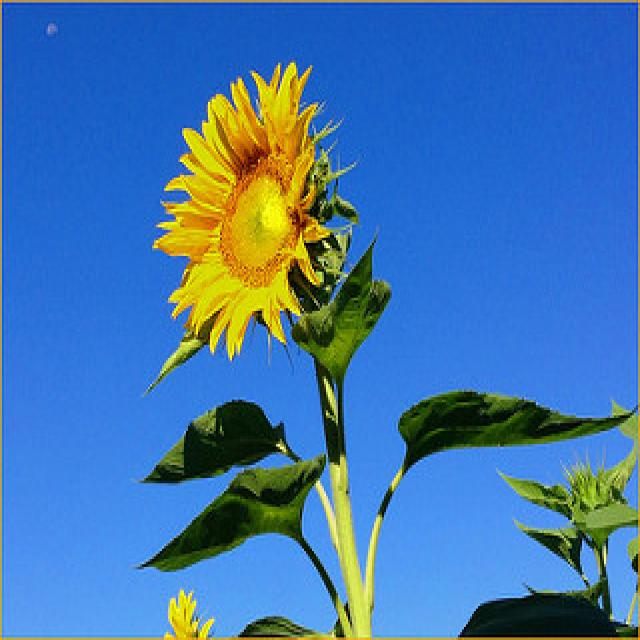sunflower: (149, 52, 335, 356)
